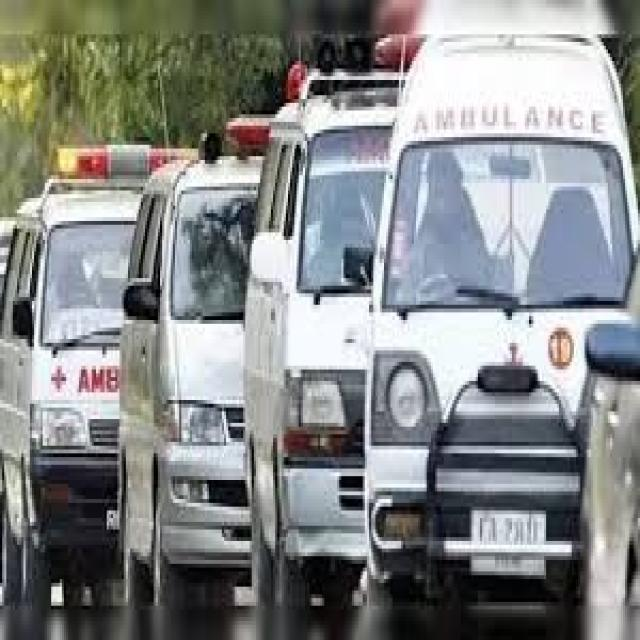ambulance: (372, 56, 607, 553), (245, 75, 375, 612), (0, 121, 124, 590), (131, 112, 255, 570), (56, 116, 192, 188)
